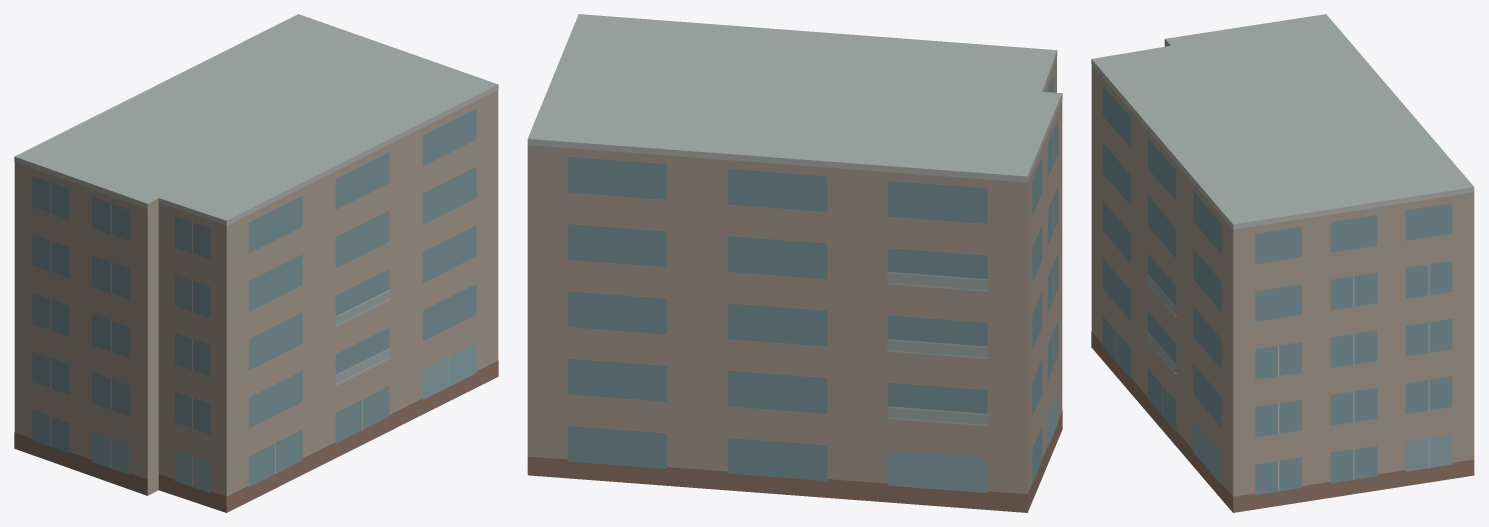
Rendered from survey-upis-32592032.glb.
The picture shows the model from 3 angles, left to right: view 1: azimuth 30°, elevation 25°; view 2: azimuth 150°, elevation 25°; view 3: azimuth 270°, elevation 25°; orthographic projection. The views are drawn at different scales.
Visible parts, largest first — view 1: survey-upis-32592032.tmp; view 2: survey-upis-32592032.tmp; view 3: survey-upis-32592032.tmp.
Boxes of the visible parts, x1,y1,x2,y2 form: survey-upis-32592032.tmp: [14, 14, 498, 512]; survey-upis-32592032.tmp: [527, 14, 1062, 512]; survey-upis-32592032.tmp: [1091, 14, 1474, 512].
Bounding box in the file's own units: 21.06 × 13.45 × 16.19.
